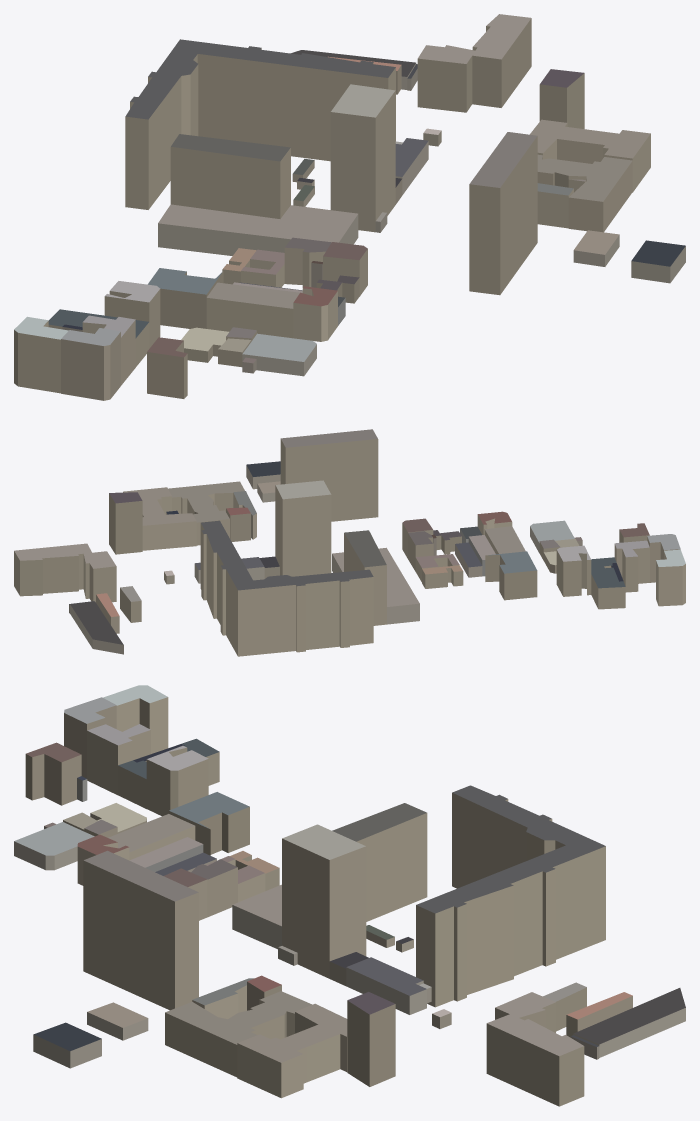
3 renders of one model, top to bottom at view 1: azimuth 30°, elevation 25°; view 2: azimuth 150°, elevation 25°; view 3: azimuth 270°, elevation 25°, orthographic. The views are drawn at different scales.
Visible parts, largest first — view 1: tuile; view 2: tuile; view 3: tuile.
Boxes of the visible parts, x1,y1,x2,y2 form: tuile: [14, 14, 685, 400]; tuile: [14, 429, 685, 656]; tuile: [14, 685, 685, 1106].
Bounding box in the file's own units: 326 × 52.44 × 256.
